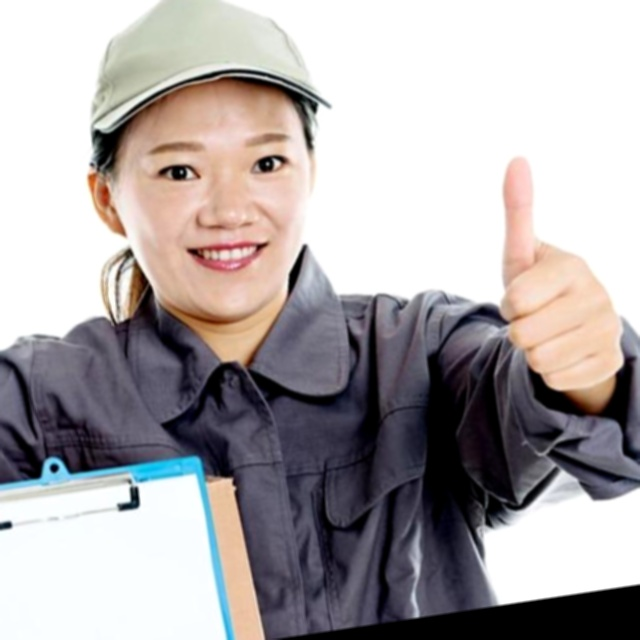Sin_Casco_Mascarrilla: (63, 0, 356, 337)
